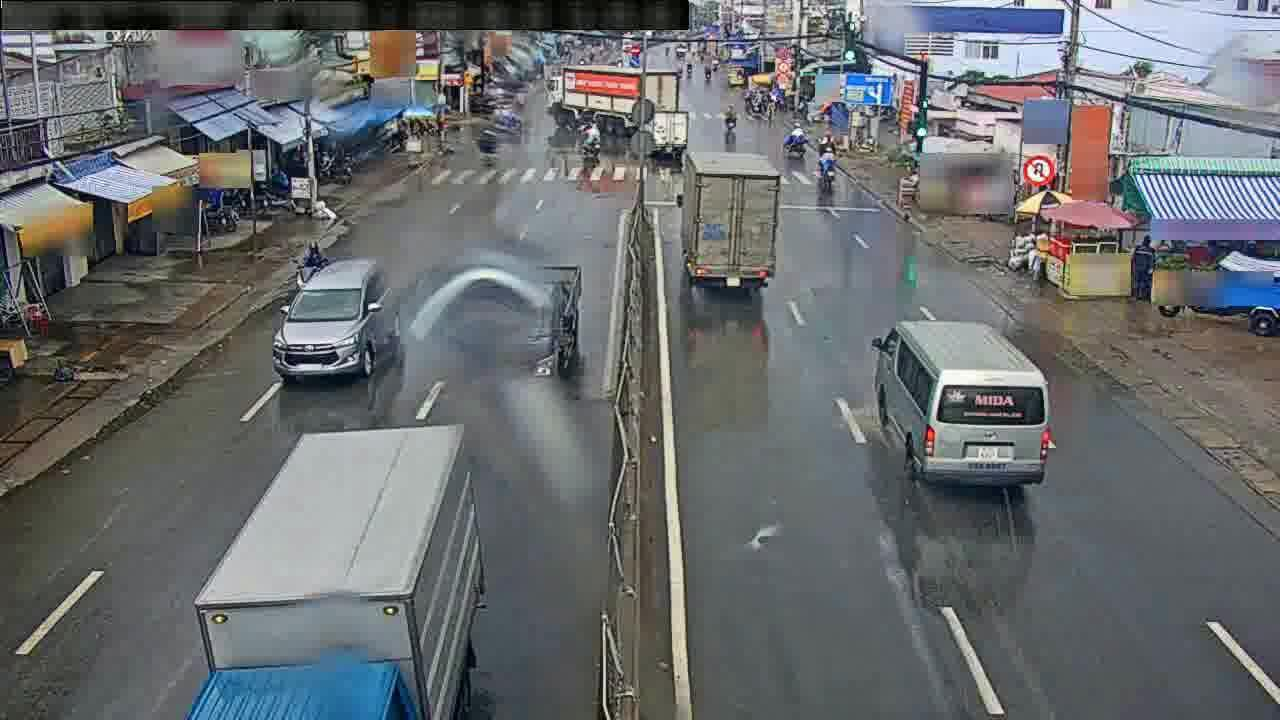14: (873, 308, 1053, 497)
8: (189, 420, 485, 720), (459, 262, 588, 388), (684, 144, 779, 292)
container: (271, 258, 390, 378)
motorbike: (571, 120, 609, 157), (295, 241, 320, 294), (815, 128, 837, 185), (782, 118, 807, 159), (719, 101, 739, 127)
